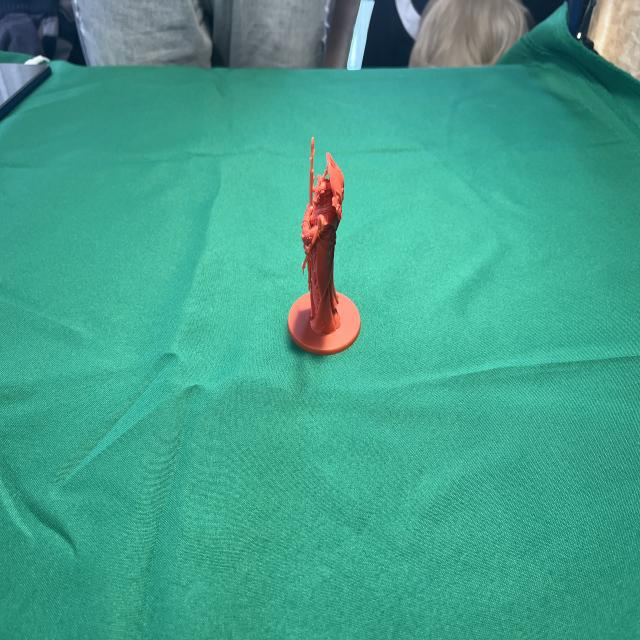amon: (287, 132, 363, 360)
